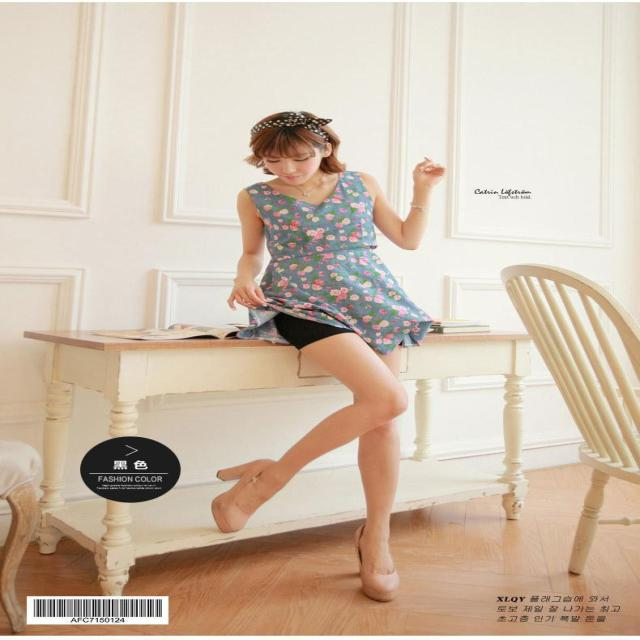shorts: (245, 269, 467, 362)
